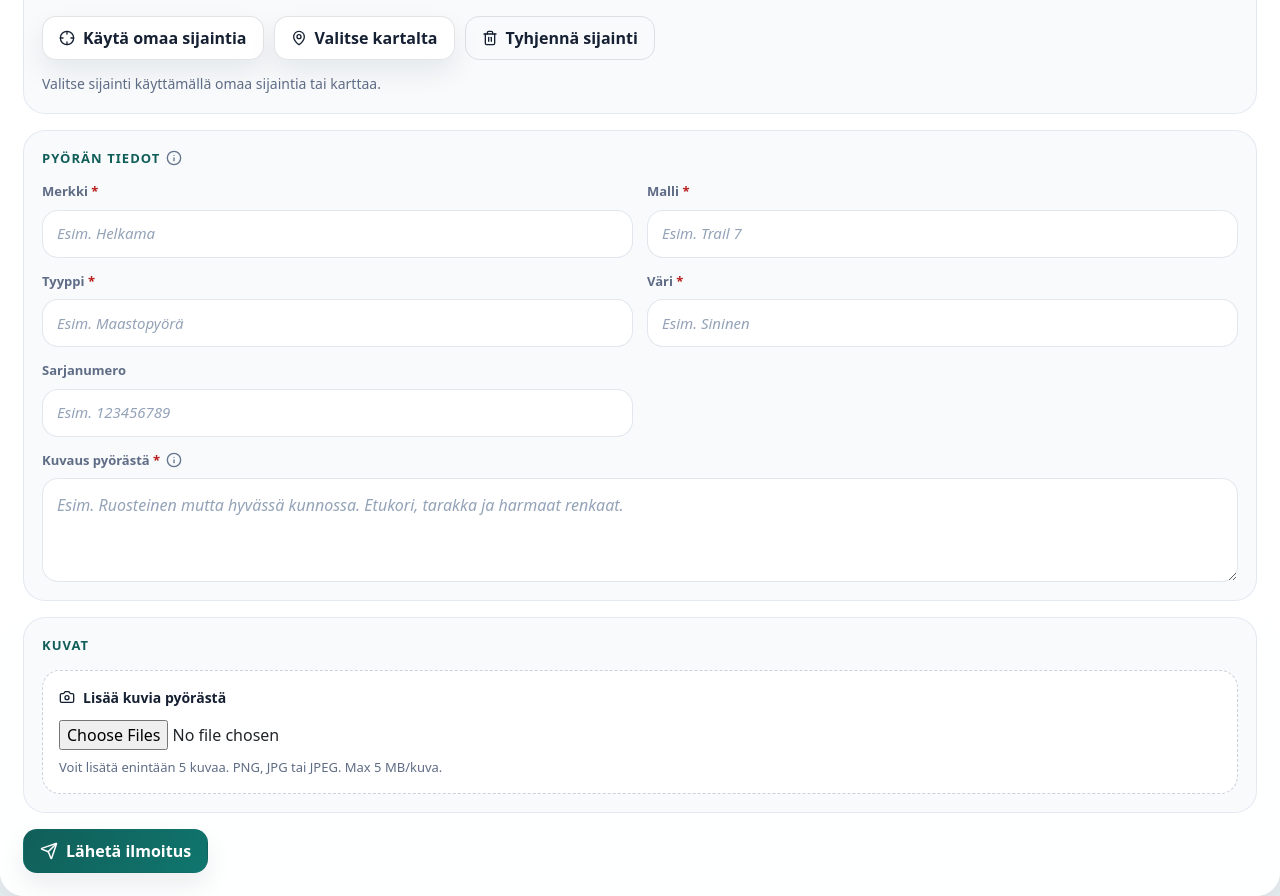
TheftReportForm - validointi - kuvaus puuttuu › näyttää virheen kun kuvaus on tyhjä ja lomake lähetetään
(page scrolled)
Click the button "Lähetä ilmoitus": coordinates (116, 851) [23,829,208,873]
(page scrolled)
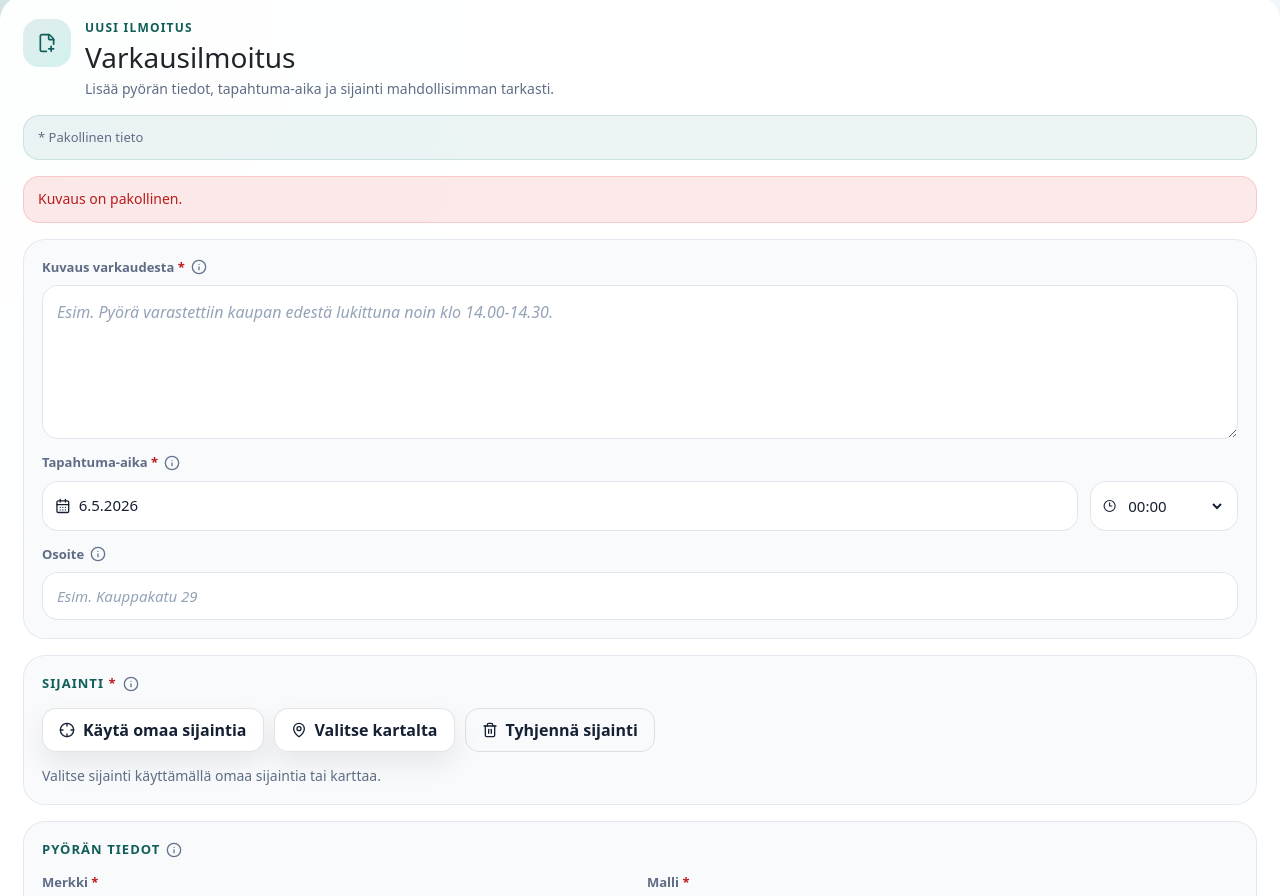
Check: the text "Kuvaus on pakollinen." is shown, box [23,176,1257,222]
